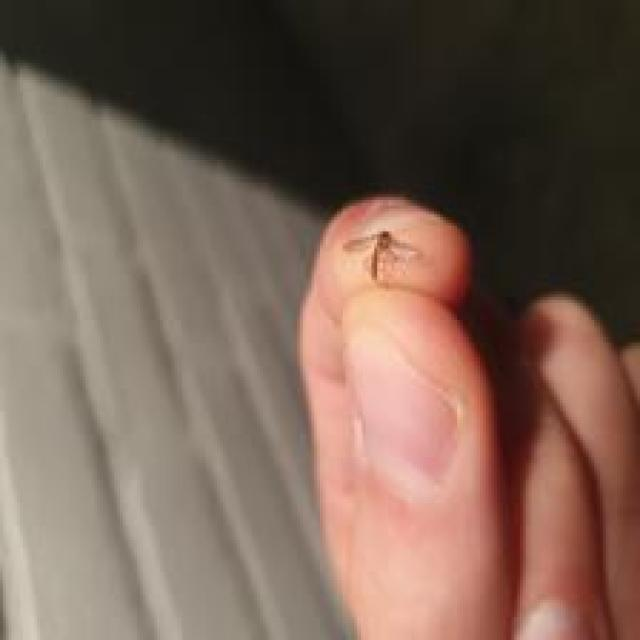Culex: (343, 228, 420, 283)
